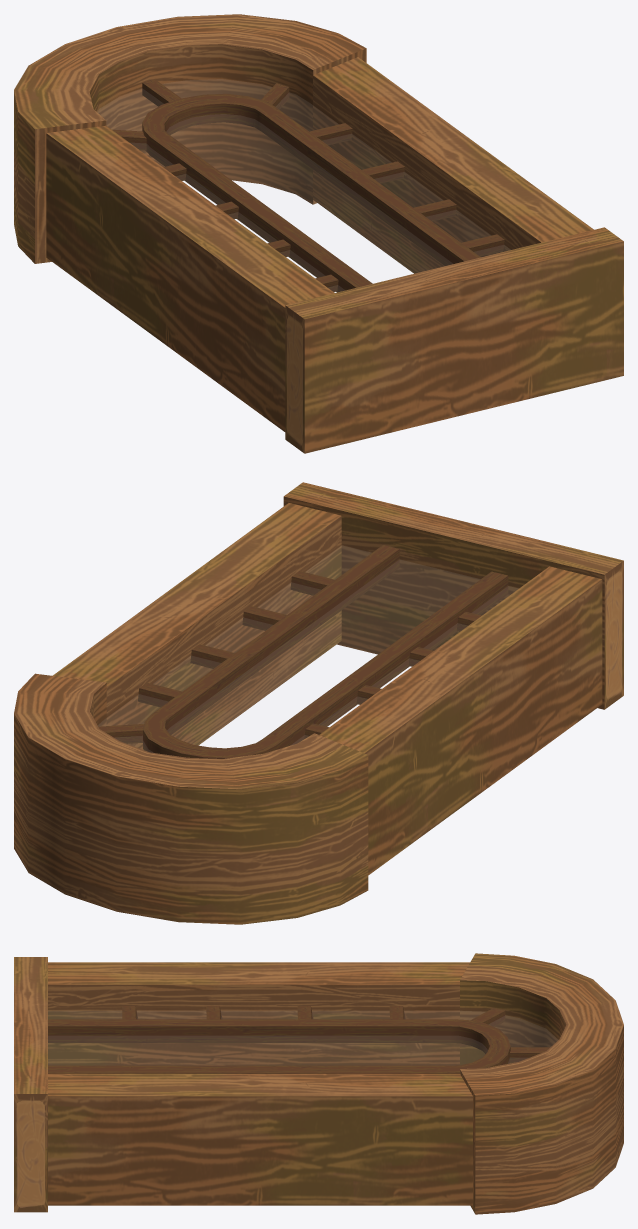
File: Window_Thin_Round1.fbx
3 renders of one model, top to bottom at view 1: azimuth 30°, elevation 25°; view 2: azimuth 150°, elevation 25°; view 3: azimuth 270°, elevation 25°, orthographic. The views are drawn at different scales.
Parts seen in each view (by area): view 1: Window_Thin_Round1; view 2: Window_Thin_Round1; view 3: Window_Thin_Round1.
Part boxes in pixels (bbox=[...]): Window_Thin_Round1: bbox=[14, 14, 623, 453]; Window_Thin_Round1: bbox=[14, 482, 623, 924]; Window_Thin_Round1: bbox=[14, 953, 623, 1214].
Bounding box in the file's own units: 0.8876 × 0.3444 × 1.6.
